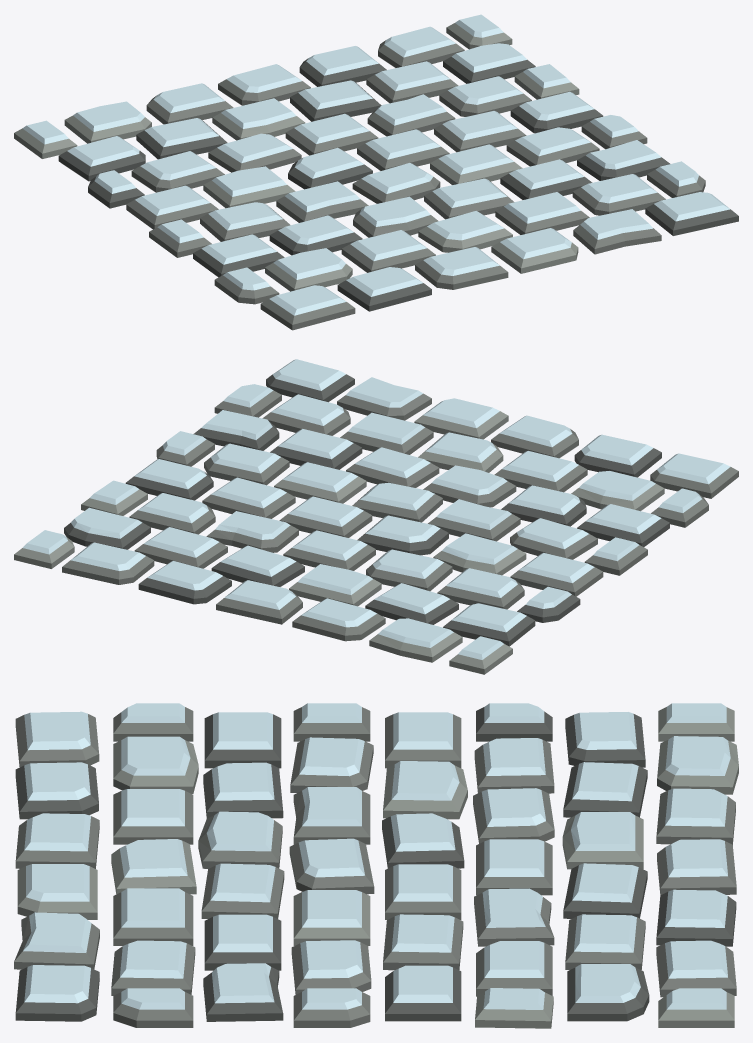
Rendered from SM_Env_Path_Cobble_01_Snow.gltf.
3 renders of one model, top to bottom at view 1: azimuth 30°, elevation 25°; view 2: azimuth 150°, elevation 25°; view 3: azimuth 270°, elevation 25°, orthographic. The views are drawn at different scales.
Parts seen in each view (by area): view 1: SM_Env_Path_Cobble_01_Snow; view 2: SM_Env_Path_Cobble_01_Snow; view 3: SM_Env_Path_Cobble_01_Snow.
Part boxes in pixels (x1,y1,x2,y2): SM_Env_Path_Cobble_01_Snow: (14,14,738,330); SM_Env_Path_Cobble_01_Snow: (14,359,738,674); SM_Env_Path_Cobble_01_Snow: (14,703,738,1028).
Bounding box in the file's own units: 3.01 × 0.0911 × 2.97.
Materials: 1 (1 with a texture image).
